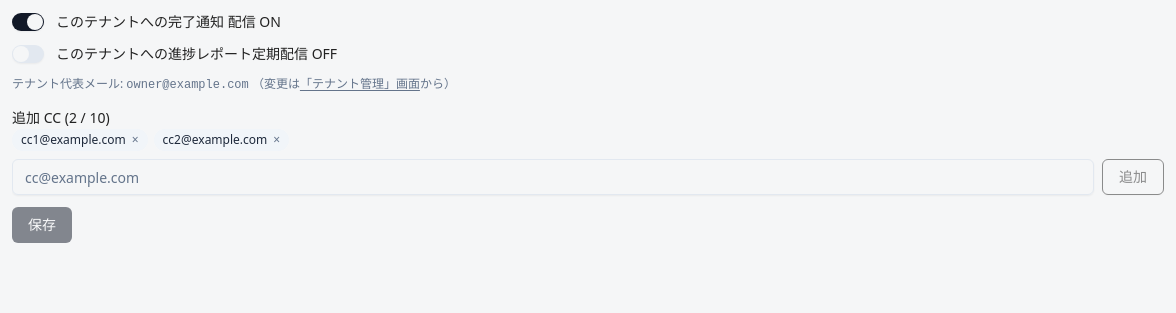
Test: TenantCcForm › 保存失敗時はエラー表示し chips state は維持
Expected: the text "cc1@example.com" is shown, [21,131,126,148]
Click the button named "cc2@example.com を削除" at (277, 140), box [273,132,280,148]
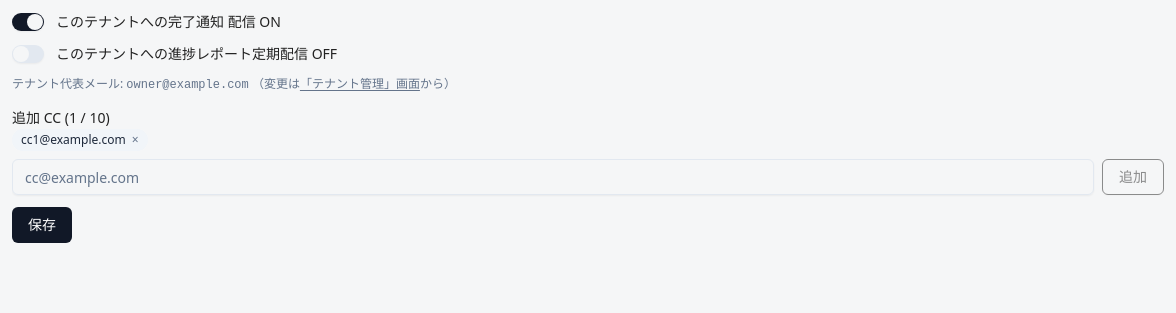
Click the button "保存" at (42, 225), box [12,207,72,243]
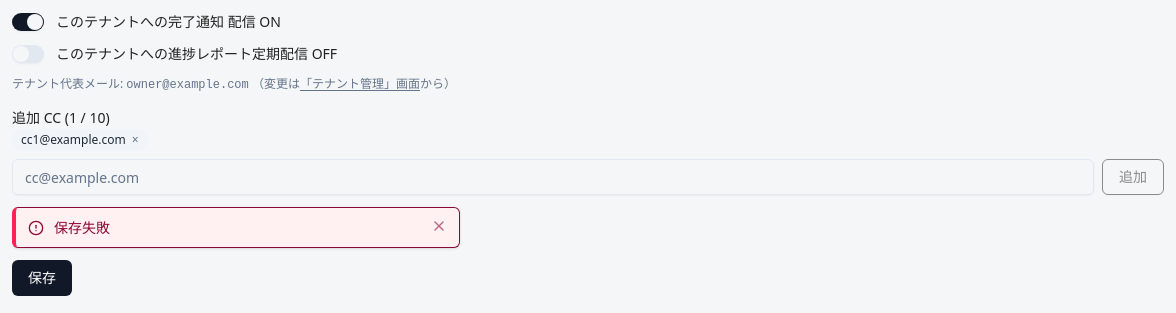
Expected: the text "cc2@example.com" is not shown
Now the text "保存失敗" is shown, box [54,218,110,237]
